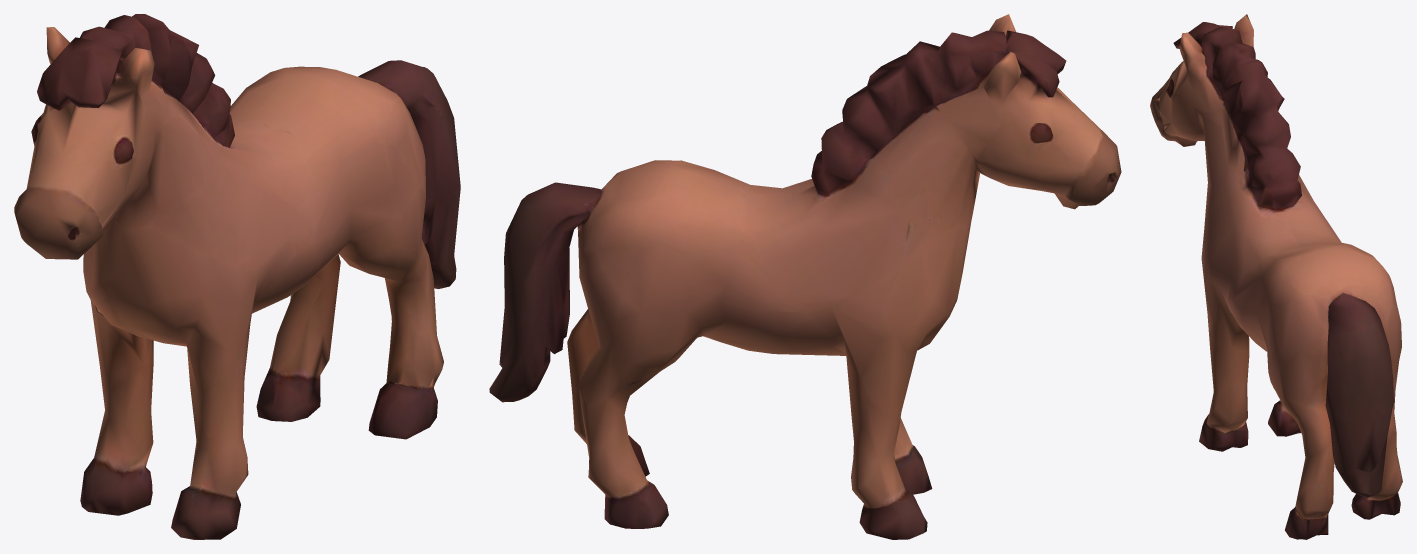
File: horse.glb
3 views of the same model, side by side, from view 1: azimuth 30°, elevation 25°; view 2: azimuth 150°, elevation 25°; view 3: azimuth 270°, elevation 25° (orthographic). The views are drawn at different scales.
Parts seen in each view (by area): view 1: tripo_node_c83092ff-f34a-4e33-a901-83fbf4dfe7f8; view 2: tripo_node_c83092ff-f34a-4e33-a901-83fbf4dfe7f8; view 3: tripo_node_c83092ff-f34a-4e33-a901-83fbf4dfe7f8.
Boxes of the visible parts, x1,y1,x2,y2 form: tripo_node_c83092ff-f34a-4e33-a901-83fbf4dfe7f8: [14, 14, 460, 539]; tripo_node_c83092ff-f34a-4e33-a901-83fbf4dfe7f8: [489, 14, 1121, 539]; tripo_node_c83092ff-f34a-4e33-a901-83fbf4dfe7f8: [1150, 14, 1402, 539].
Size of the model in its own units: 0.9794 by 0.878 by 0.5269.
Materials: 1 (1 with a texture image).
